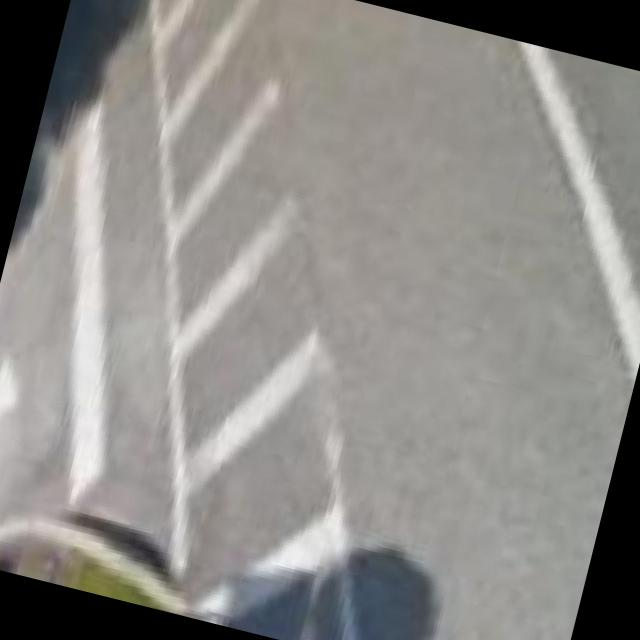zebra: (130, 0, 374, 640)
